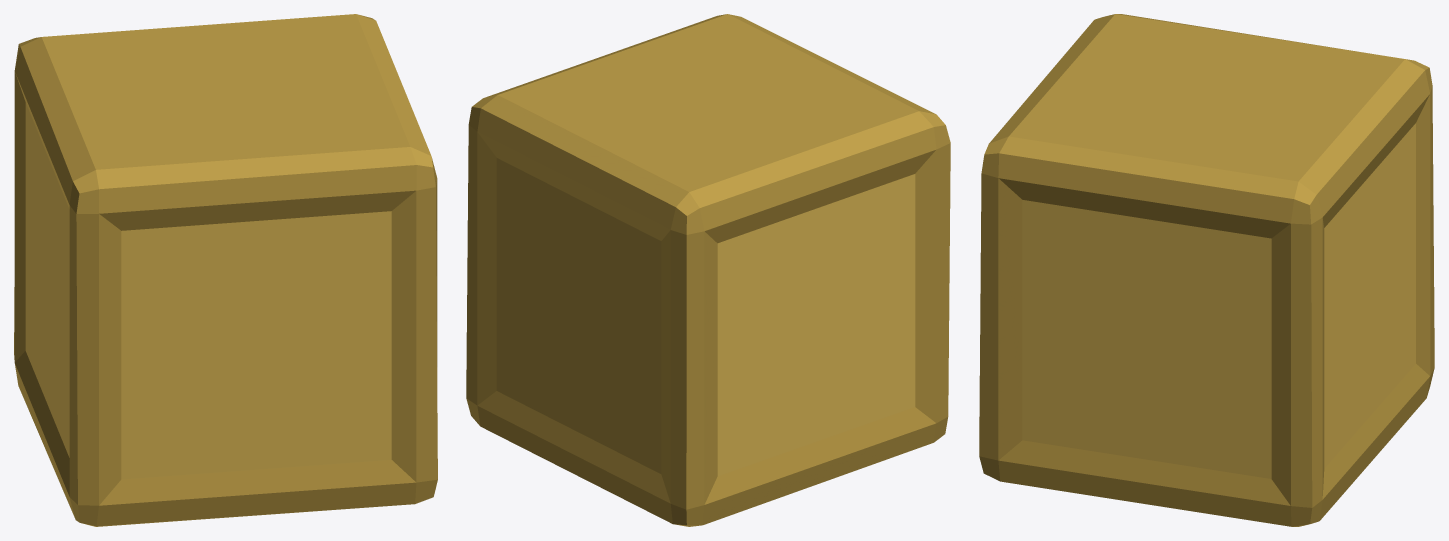
Rendered from woodenBox.fbx.
3 renders of one model, left to right at view 1: azimuth 30°, elevation 25°; view 2: azimuth 150°, elevation 25°; view 3: azimuth 270°, elevation 25°, orthographic. The views are drawn at different scales.
Visible parts, largest first — view 1: Cube.188; view 2: Cube.188; view 3: Cube.188.
Part boxes in pixels (left/top/right/bottom): Cube.188: left=14, top=14, right=437, bottom=526; Cube.188: left=466, top=14, right=950, bottom=526; Cube.188: left=979, top=14, right=1434, bottom=526.
Size of the model in its own units: 103 by 86.25 by 103.
